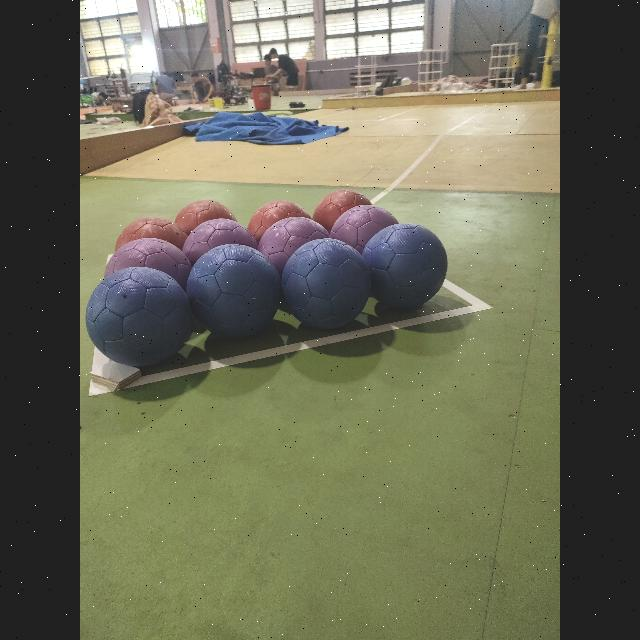B: (86, 268, 192, 366), (187, 244, 281, 338), (282, 238, 371, 328), (362, 224, 448, 308)
P: (105, 237, 191, 289), (259, 217, 329, 275), (184, 218, 258, 266), (332, 205, 398, 253)
R: (313, 189, 372, 233), (248, 201, 308, 241), (175, 200, 237, 236)
S: (488, 38, 522, 94), (348, 47, 386, 95), (418, 44, 450, 92)
